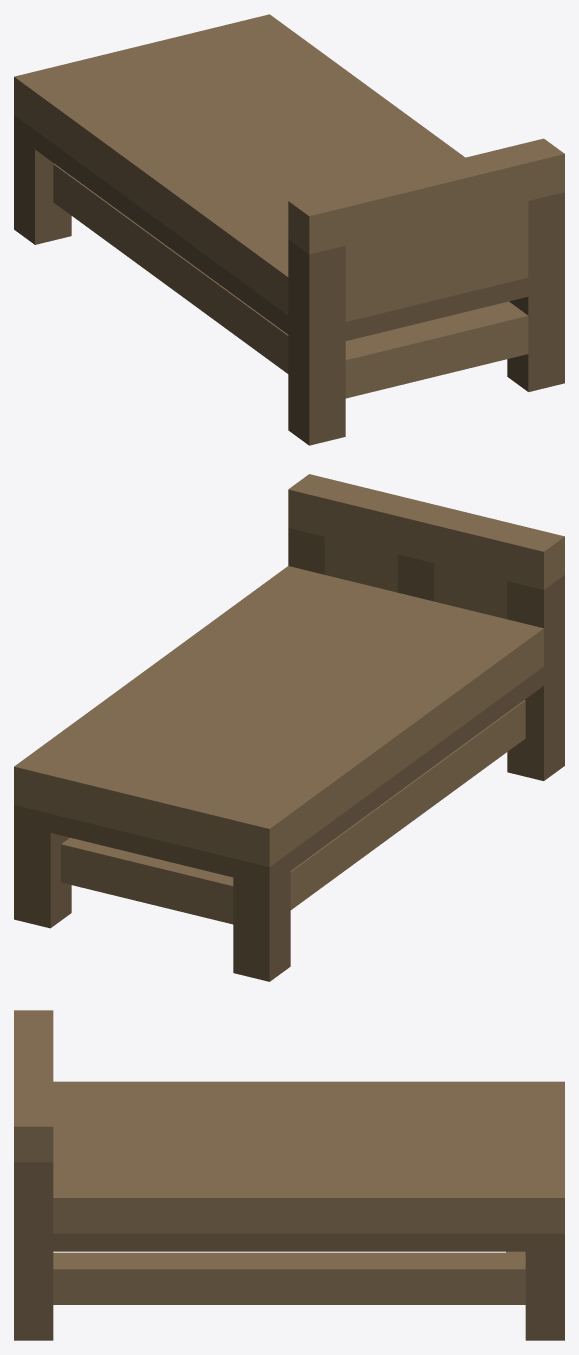
Rendered from banco_carpintero_ribera_roble_01.glb.
3 views of the same model, one above another, from view 1: azimuth 30°, elevation 25°; view 2: azimuth 150°, elevation 25°; view 3: azimuth 270°, elevation 25° (orthographic). The views are drawn at different scales.
Visible parts, largest first — view 1: banco_carpintero_ribera_roble; view 2: banco_carpintero_ribera_roble; view 3: banco_carpintero_ribera_roble.
Boxes of the visible parts, x1,y1,x2,y2 form: banco_carpintero_ribera_roble: (14, 14, 564, 445); banco_carpintero_ribera_roble: (14, 474, 564, 981); banco_carpintero_ribera_roble: (14, 1010, 564, 1340).
Size of the model in its own units: 1 by 0.8571 by 2.
